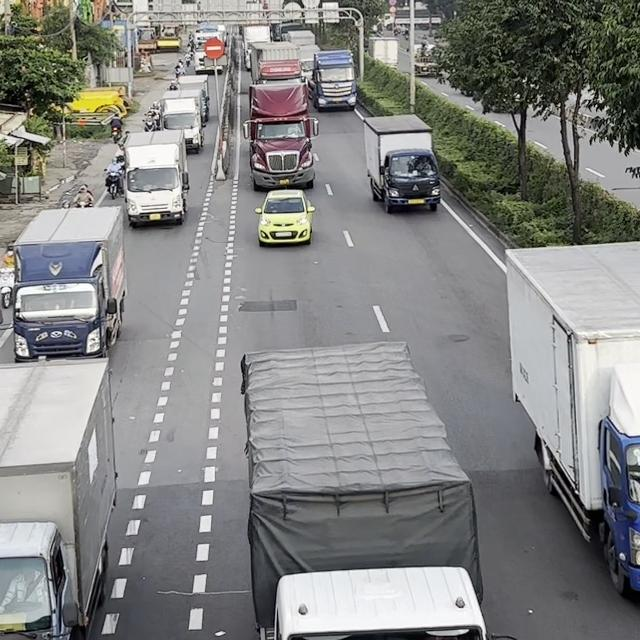car: (253, 188, 315, 246)
motorcycle: (103, 168, 122, 199), (72, 195, 93, 208), (143, 114, 157, 132), (111, 125, 122, 143), (169, 79, 179, 90)
truck: (239, 339, 485, 639), (504, 238, 639, 600), (0, 356, 118, 639), (1, 205, 127, 362), (242, 79, 320, 191), (362, 113, 441, 213), (121, 129, 189, 227), (311, 48, 357, 111), (156, 94, 204, 153), (251, 40, 307, 85), (175, 75, 210, 122)
